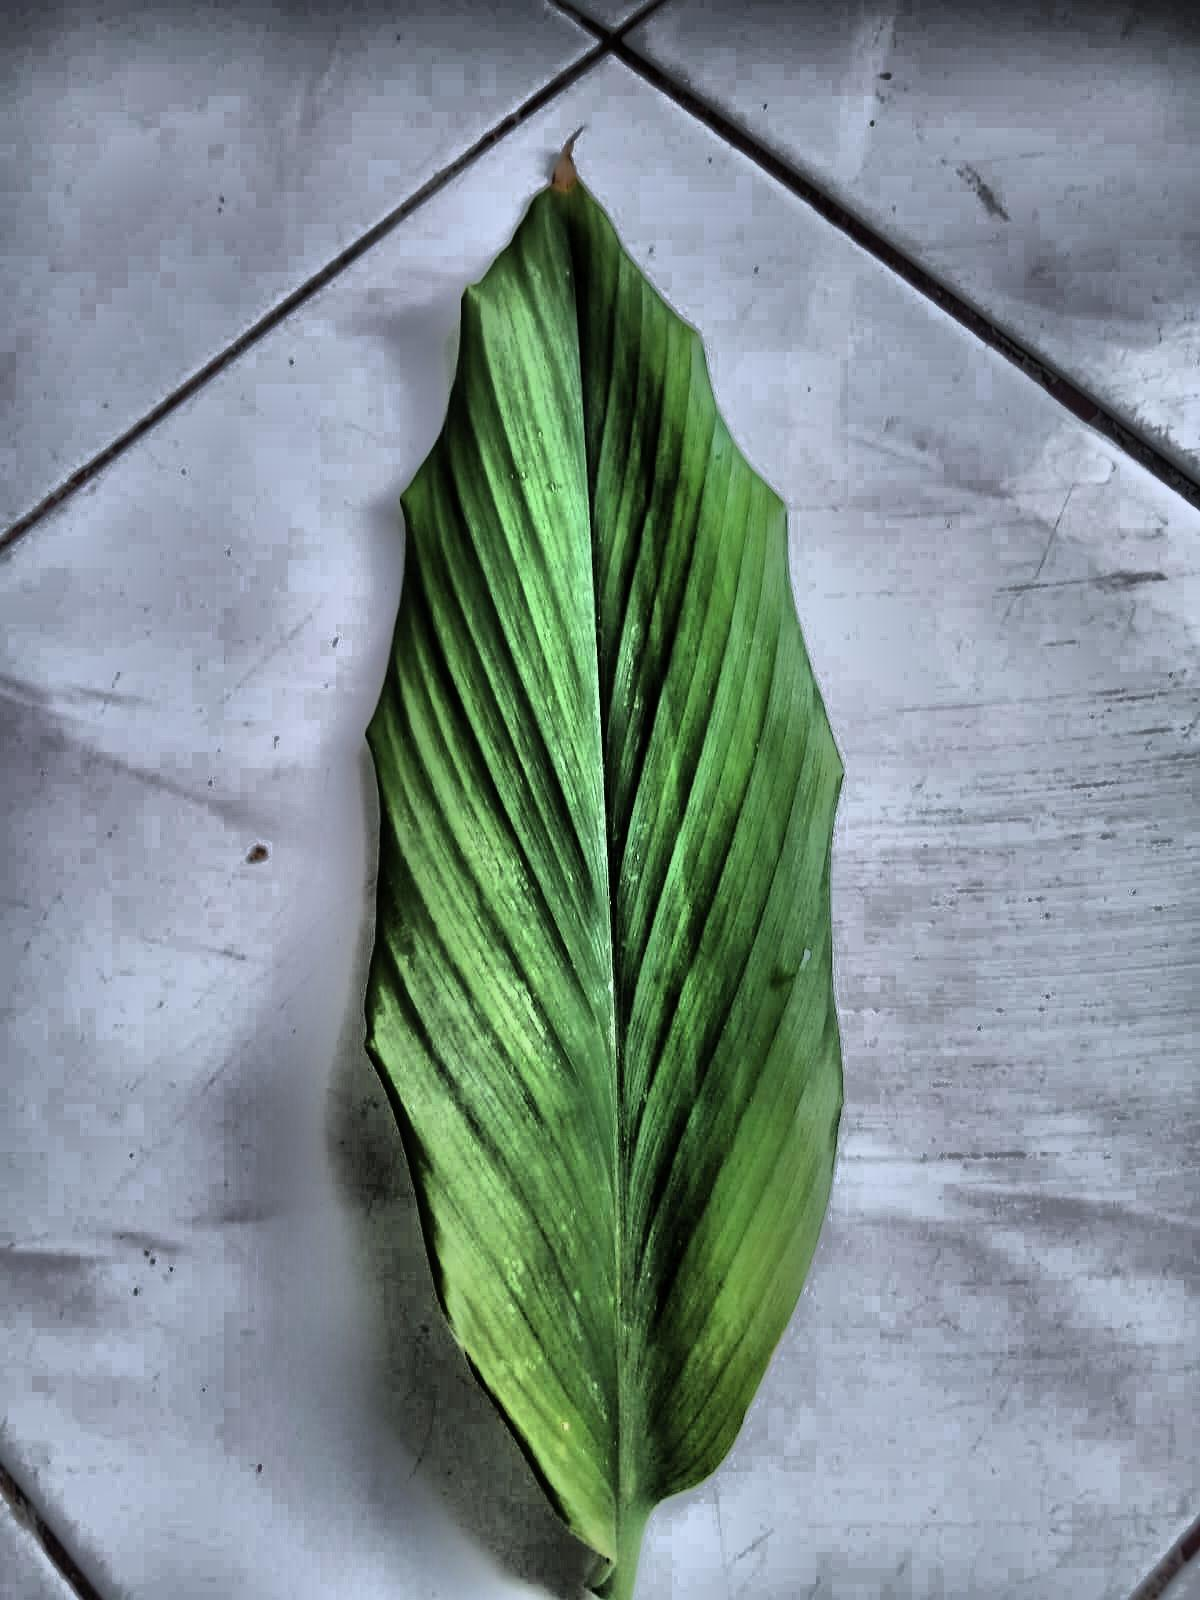daun kunyit: (366, 163, 842, 1599)
